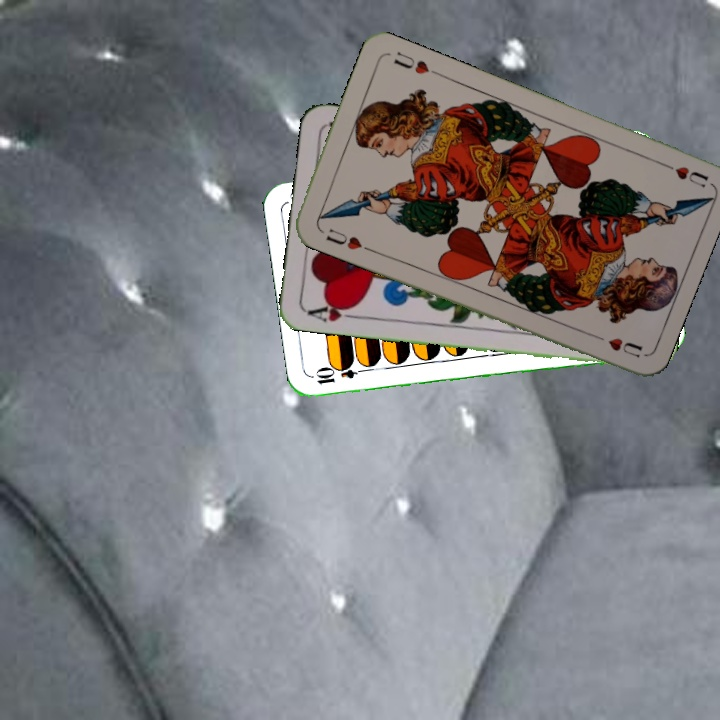E10: (312, 362, 371, 387)
HA: (303, 298, 362, 325)
HU: (655, 157, 711, 190), (322, 224, 373, 254)
